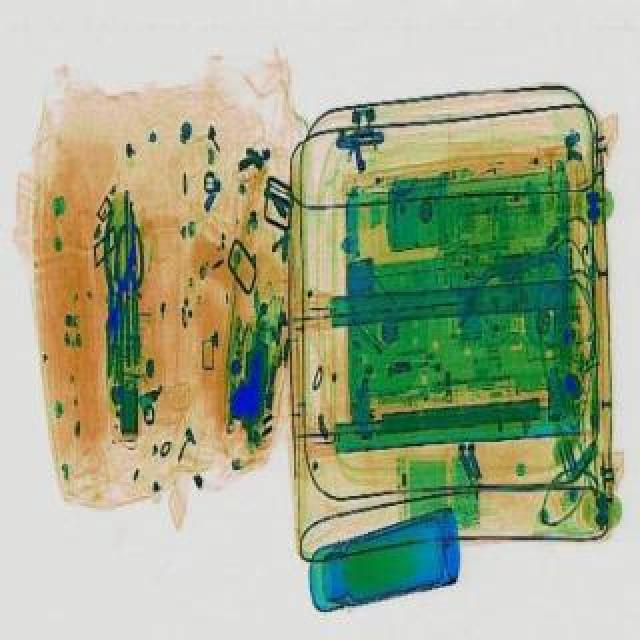wrench: (92, 208, 138, 378)
